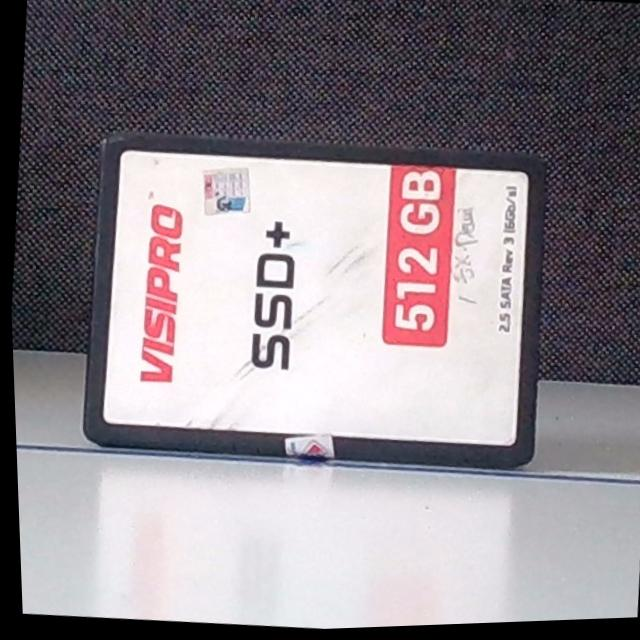ssd: (66, 122, 554, 492)
